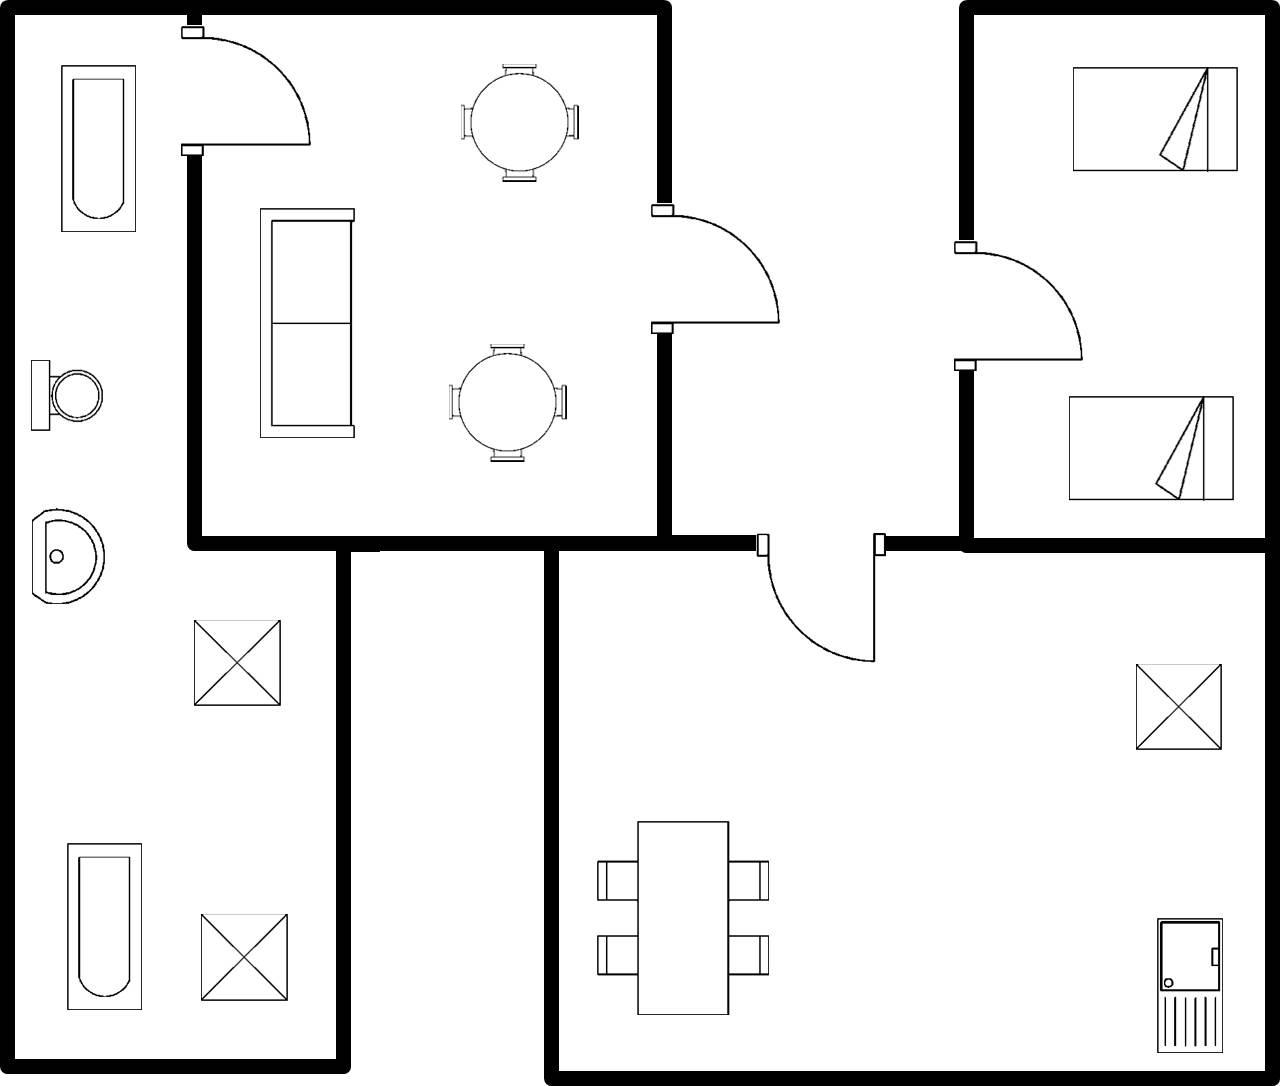bed: (1057, 385, 1246, 511), (1063, 56, 1247, 180)
dining_table: (586, 809, 776, 1029)
round_table: (447, 55, 588, 194), (442, 336, 579, 470)
sink: (1146, 907, 1234, 1061)
sofa: (252, 198, 360, 444)
toilet: (20, 352, 106, 443)
tub: (57, 833, 150, 1019), (51, 54, 142, 242)
